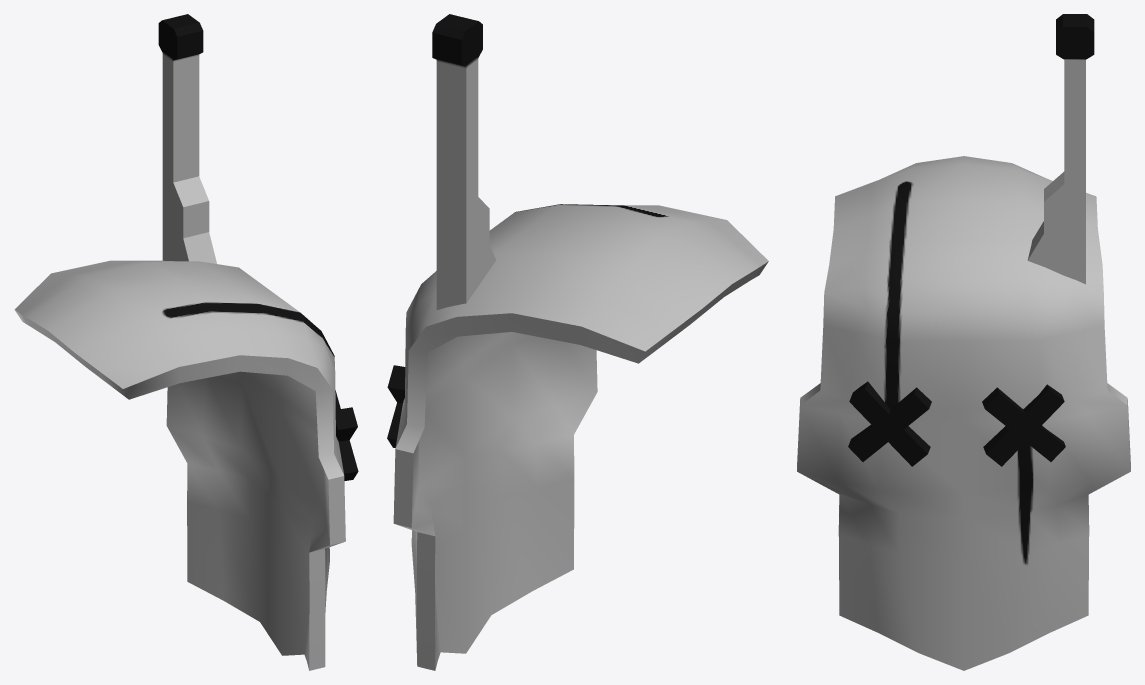
The model's file is SM_Mask_Taon.fbx.
3 views of the same model, side by side, from view 1: azimuth 30°, elevation 25°; view 2: azimuth 150°, elevation 25°; view 3: azimuth 270°, elevation 25° (orthographic). The views are drawn at different scales.
Parts seen in each view (by area): view 1: AM_Taon; view 2: AM_Taon; view 3: AM_Taon.
Boxes of the visible parts, x1,y1,x2,y2 form: AM_Taon: [14, 14, 358, 670]; AM_Taon: [387, 14, 768, 670]; AM_Taon: [797, 14, 1130, 670].
Size of the model in its own units: 72.53 by 159 by 77.51.
